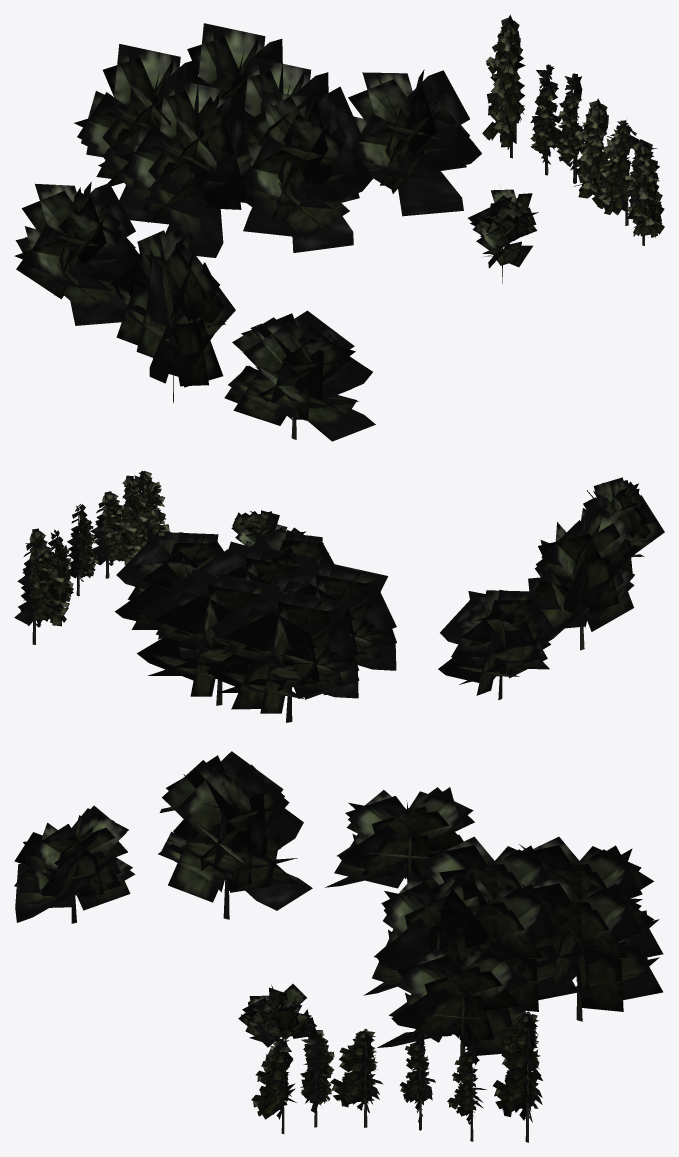
The model's file is koki.obj.
3 views of the same model, one above another, from view 1: azimuth 30°, elevation 25°; view 2: azimuth 150°, elevation 25°; view 3: azimuth 270°, elevation 25° (orthographic). The views are drawn at different scales.
Parts seen in each view (by area): view 1: koki_Birch_02.001; view 2: koki_Birch_02.001; view 3: koki_Birch_02.001.
Boxes of the visible parts, x1,y1,x2,y2 form: koki_Birch_02.001: [14, 14, 664, 441]; koki_Birch_02.001: [14, 471, 664, 722]; koki_Birch_02.001: [14, 751, 663, 1142].
Bounding box in the file's own units: 55.36 × 15.55 × 59.
